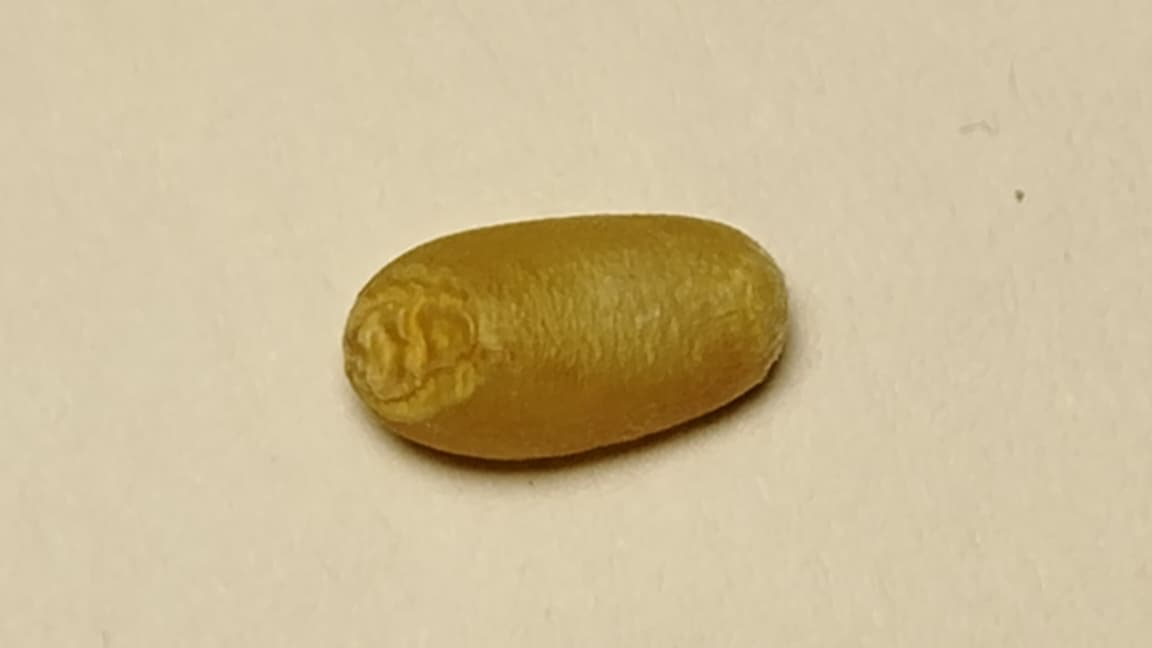healthy: (345, 216, 786, 459)
